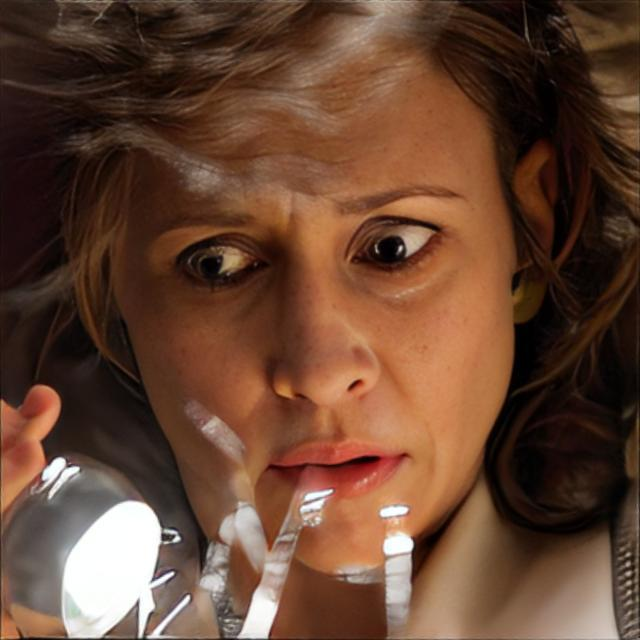fear: (108, 0, 510, 577)
